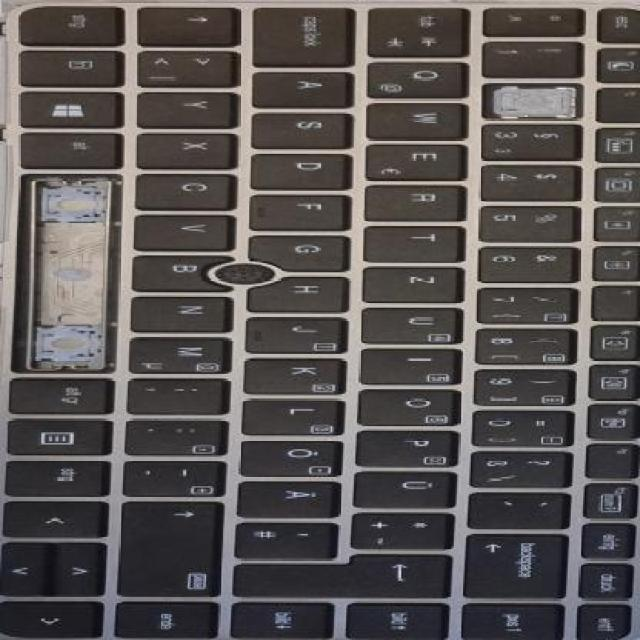Keyboard problems: (11, 170, 131, 373), (472, 76, 586, 124)
